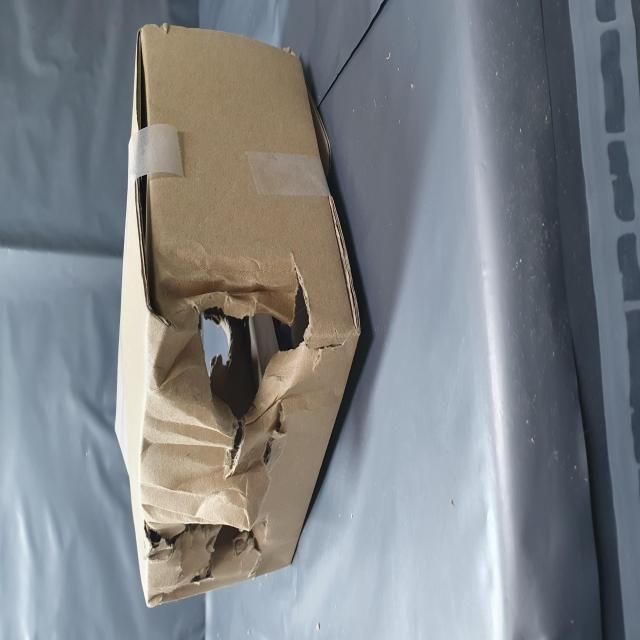damaged: (104, 313, 214, 577), (25, 254, 71, 473)
